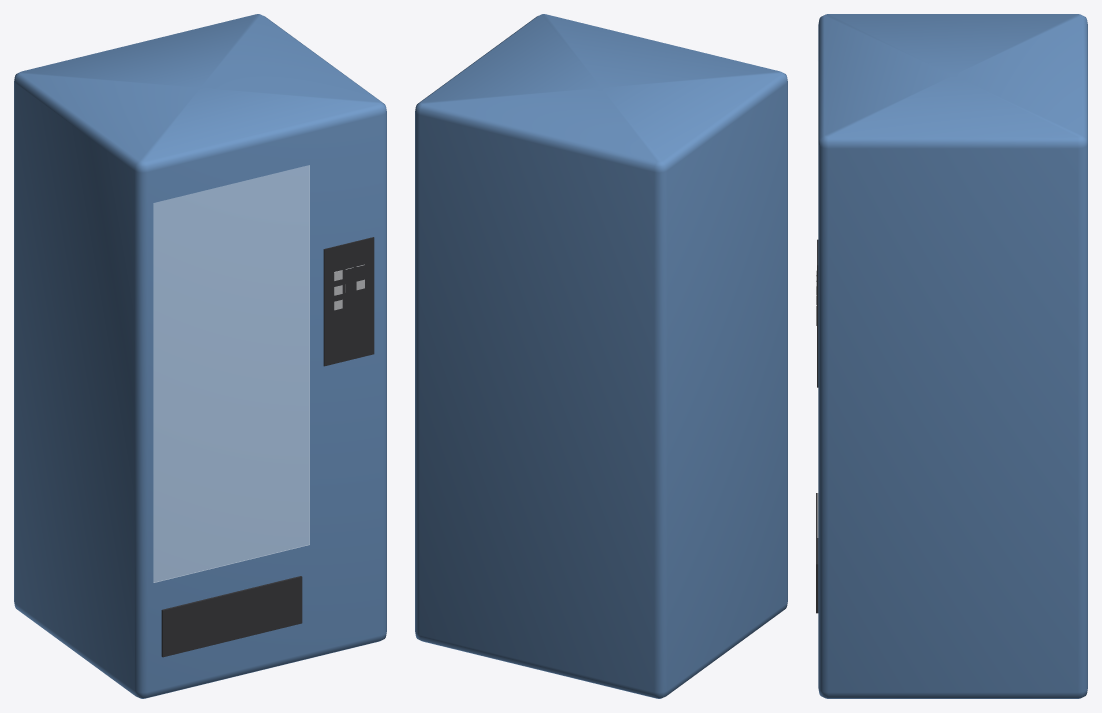
Rendered from vending_machine.glb.
3 views of the same model, side by side, from view 1: azimuth 30°, elevation 25°; view 2: azimuth 150°, elevation 25°; view 3: azimuth 270°, elevation 25° (orthographic). The views are drawn at different scales.
Parts seen in each view (by area): view 1: vending_machine; view 2: vending_machine; view 3: vending_machine.
Part boxes in pixels (left/top/right/bottom): vending_machine: left=14, top=14, right=386, bottom=698; vending_machine: left=415, top=14, right=787, bottom=698; vending_machine: left=816, top=14, right=1087, bottom=698.
Size of the model in its own units: 0.9 by 1.84 by 0.807.
